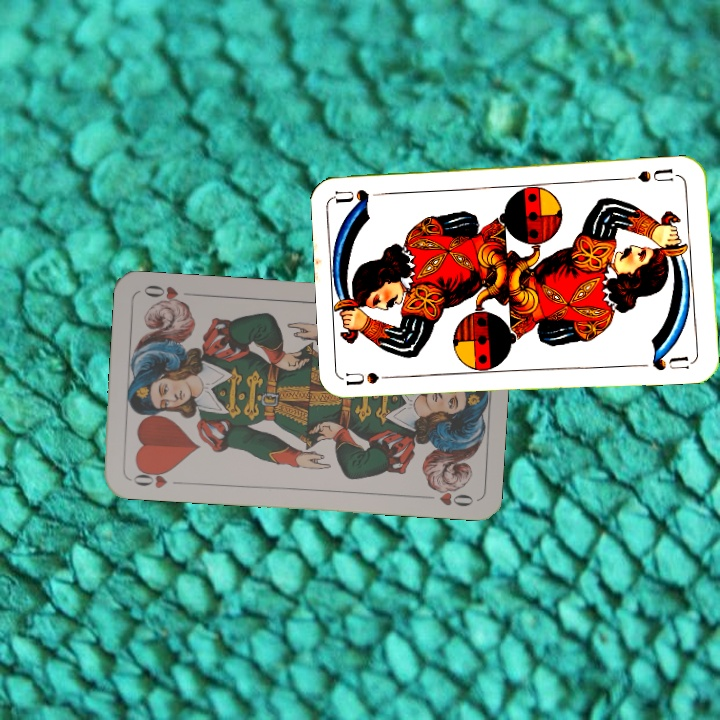HO: (129, 464, 175, 491)
SU: (344, 368, 403, 388), (634, 165, 684, 185)
